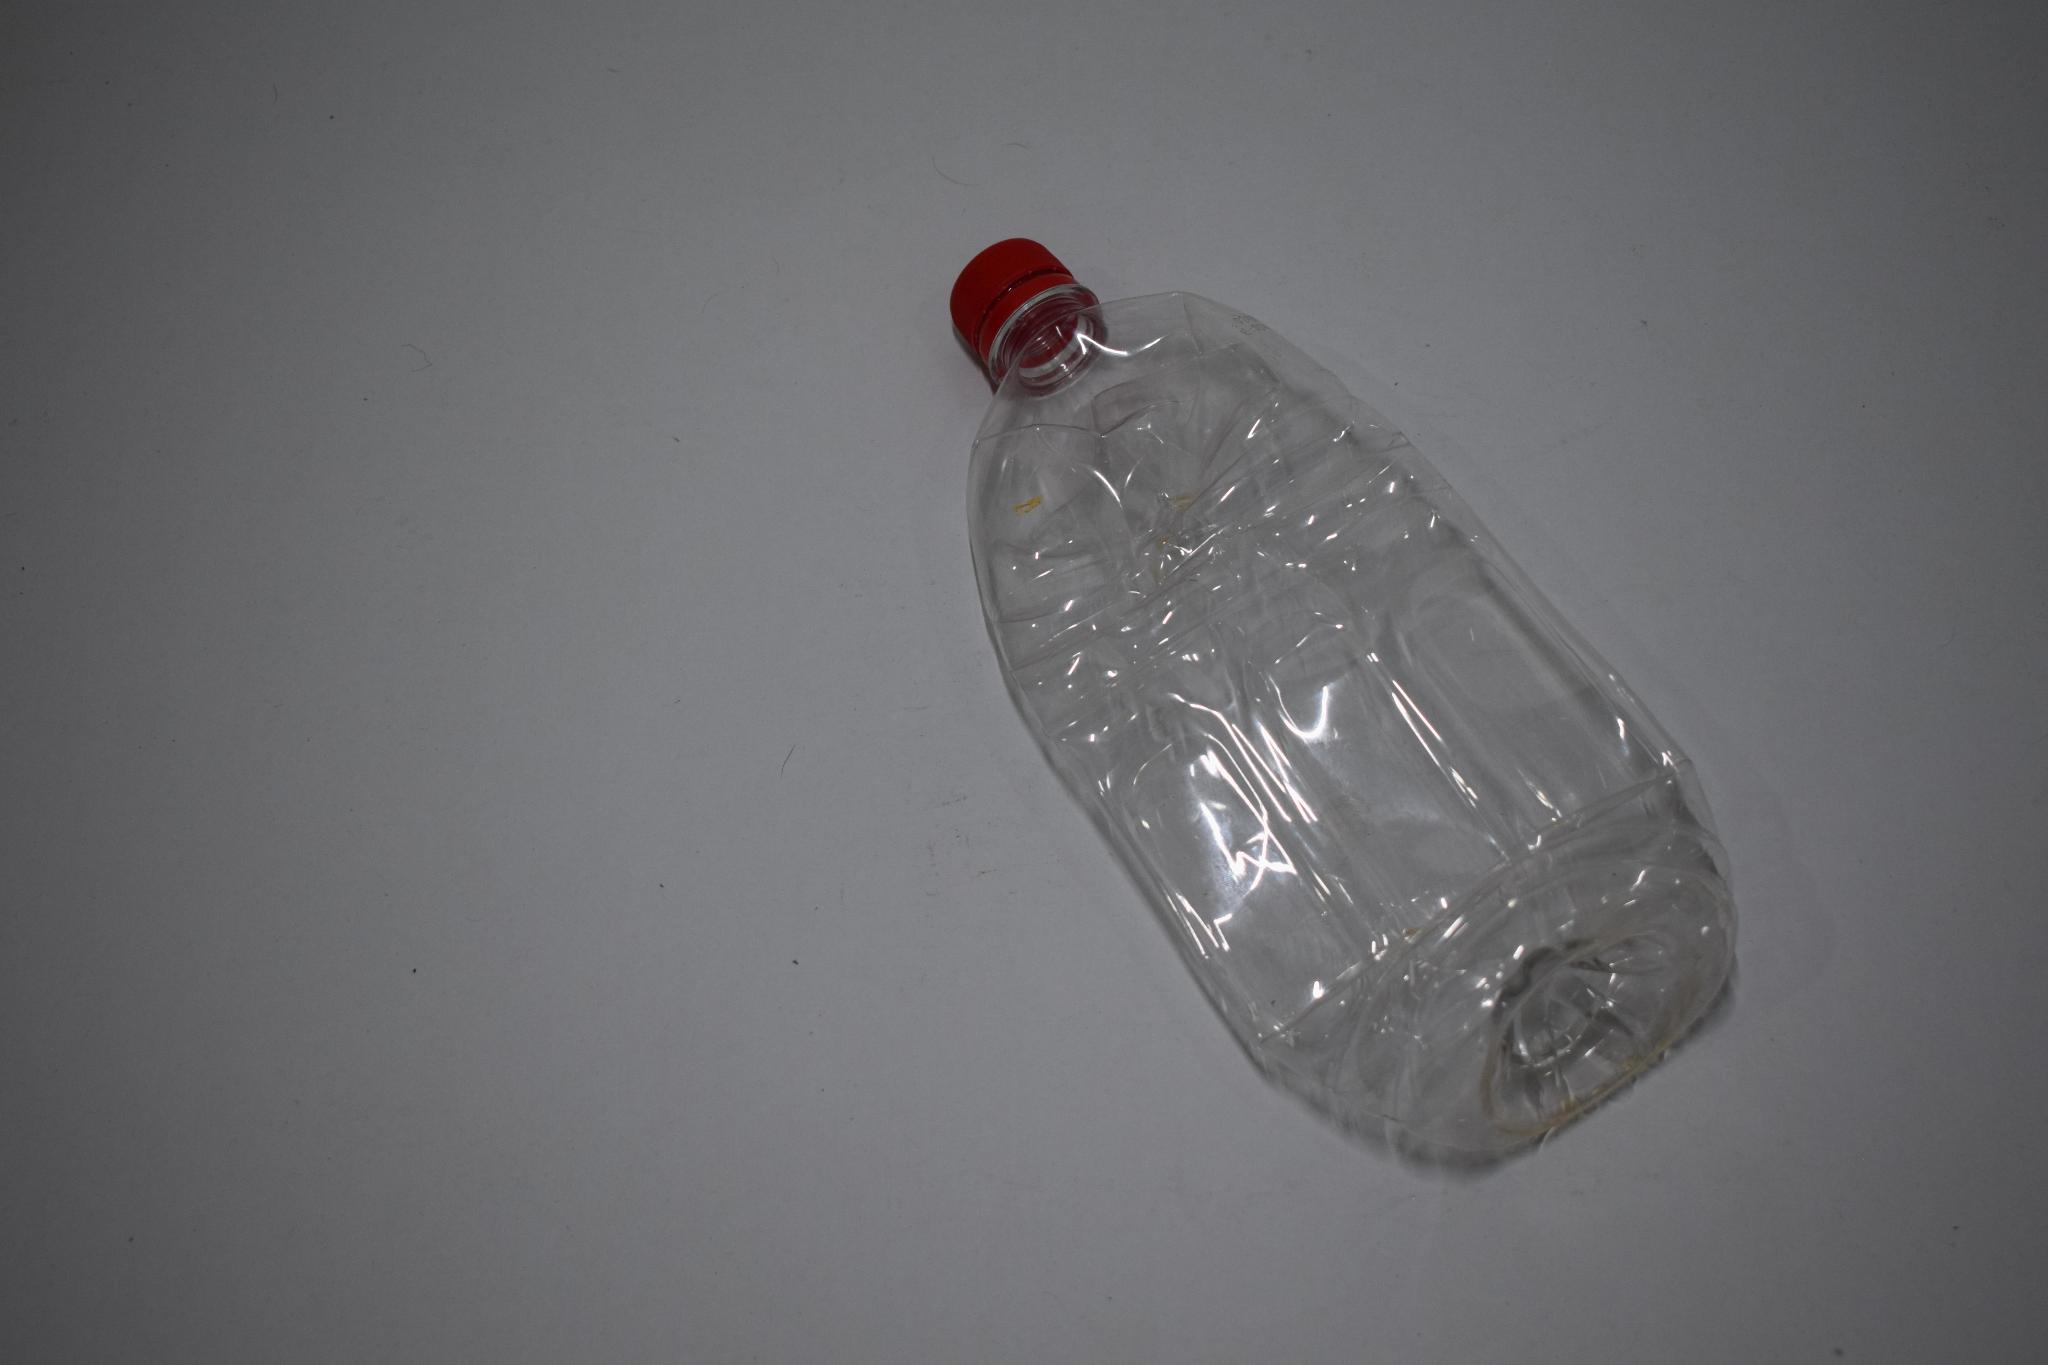bottle: (930, 216, 1754, 1191)
